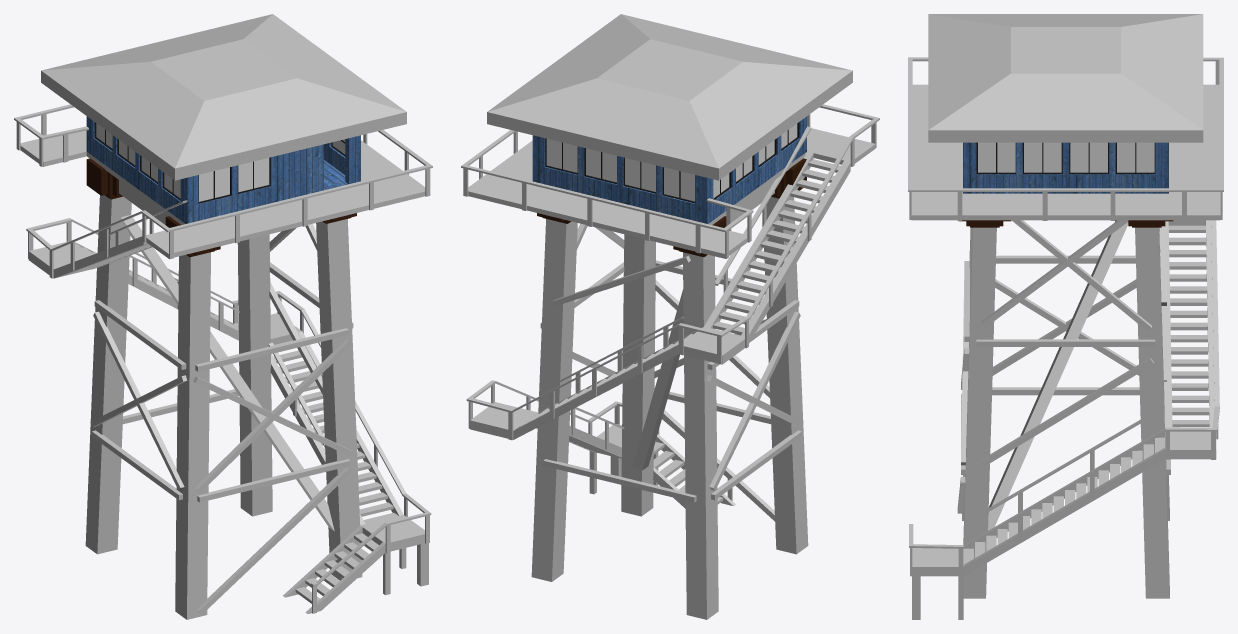
File: SmotrovayaVishkaTemp.fbx
3 views of the same model, side by side, from view 1: azimuth 30°, elevation 25°; view 2: azimuth 150°, elevation 25°; view 3: azimuth 270°, elevation 25° (orthographic). The views are drawn at different scales.
Visible parts, largest first — view 1: columns, roof, floor, ladderBase, room, perila, perilaBase, windows, ladder2, ladder1, underFloor; view 2: columns, roof, ladderBase, floor, room, perila, windows, perilaBase, ladder4, windowWithCode, underFloor, ladder1 (+1 smaller); view 3: roof, columns, floor, ladderBase, perila, windows, ladder3, room, ladder2, perilaBase, underFloor.
Part boxes in pixels (bbox=[...]): columns: bbox=[85, 180, 362, 619]; roof: bbox=[41, 14, 406, 180]; floor: bbox=[20, 130, 425, 258]; ladderBase: bbox=[28, 236, 428, 613]; room: bbox=[86, 116, 360, 223]; perila: bbox=[14, 104, 432, 586]; perilaBase: bbox=[16, 114, 430, 613]; windows: bbox=[94, 122, 345, 203]; ladder2: bbox=[273, 340, 398, 523]; ladder1: bbox=[295, 533, 378, 603]; underFloor: bbox=[86, 158, 356, 257]; columns: bbox=[531, 180, 808, 619]; roof: bbox=[487, 14, 852, 180]; ladderBase: bbox=[470, 151, 850, 508]; floor: bbox=[468, 128, 875, 258]; room: bbox=[532, 116, 806, 223]; perila: bbox=[461, 104, 879, 432]; windows: bbox=[545, 122, 799, 202]; perilaBase: bbox=[463, 114, 876, 500]; ladder4: bbox=[713, 159, 840, 334]; windowWithCode: bbox=[623, 157, 655, 193]; underFloor: bbox=[537, 158, 806, 257]; ladder1: bbox=[653, 442, 723, 504]; roof: bbox=[928, 14, 1203, 142]; columns: bbox=[957, 220, 1170, 598]; floor: bbox=[911, 84, 1220, 220]; ladderBase: bbox=[912, 220, 1216, 619]; perila: bbox=[908, 57, 1223, 548]; windows: bbox=[976, 142, 1155, 174]; ladder3: bbox=[1168, 225, 1209, 427]; room: bbox=[963, 142, 1168, 193]; ladder2: bbox=[963, 437, 1164, 564]; perilaBase: bbox=[909, 61, 1222, 577]; underFloor: bbox=[959, 220, 1173, 227].
Bounding box in the file's own units: 1283 × 2268 × 1287.
